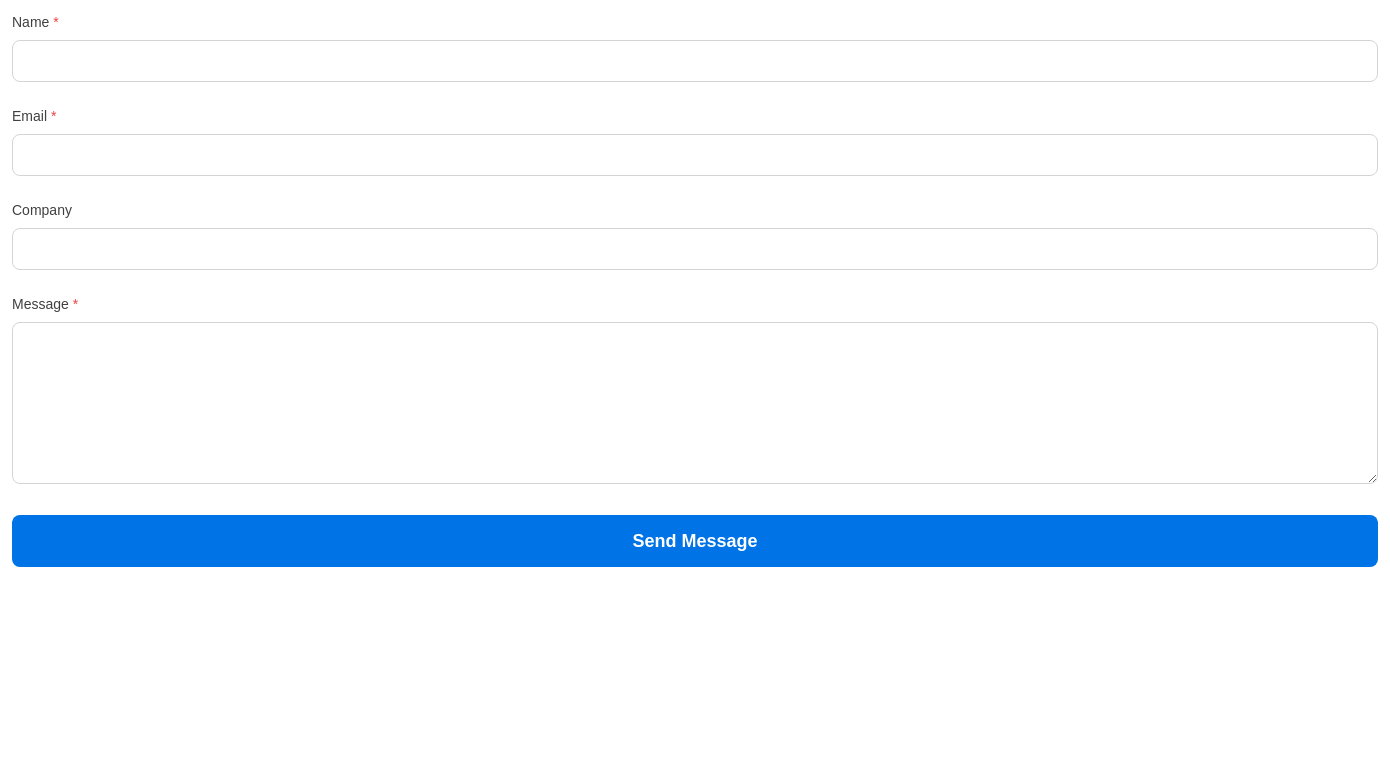
Scenario: ContactForm Component › Loading State › should show loading state during submission
Type "John Doe" into the field labelled "Name *" at (695, 61), box [12,40,1378,82]
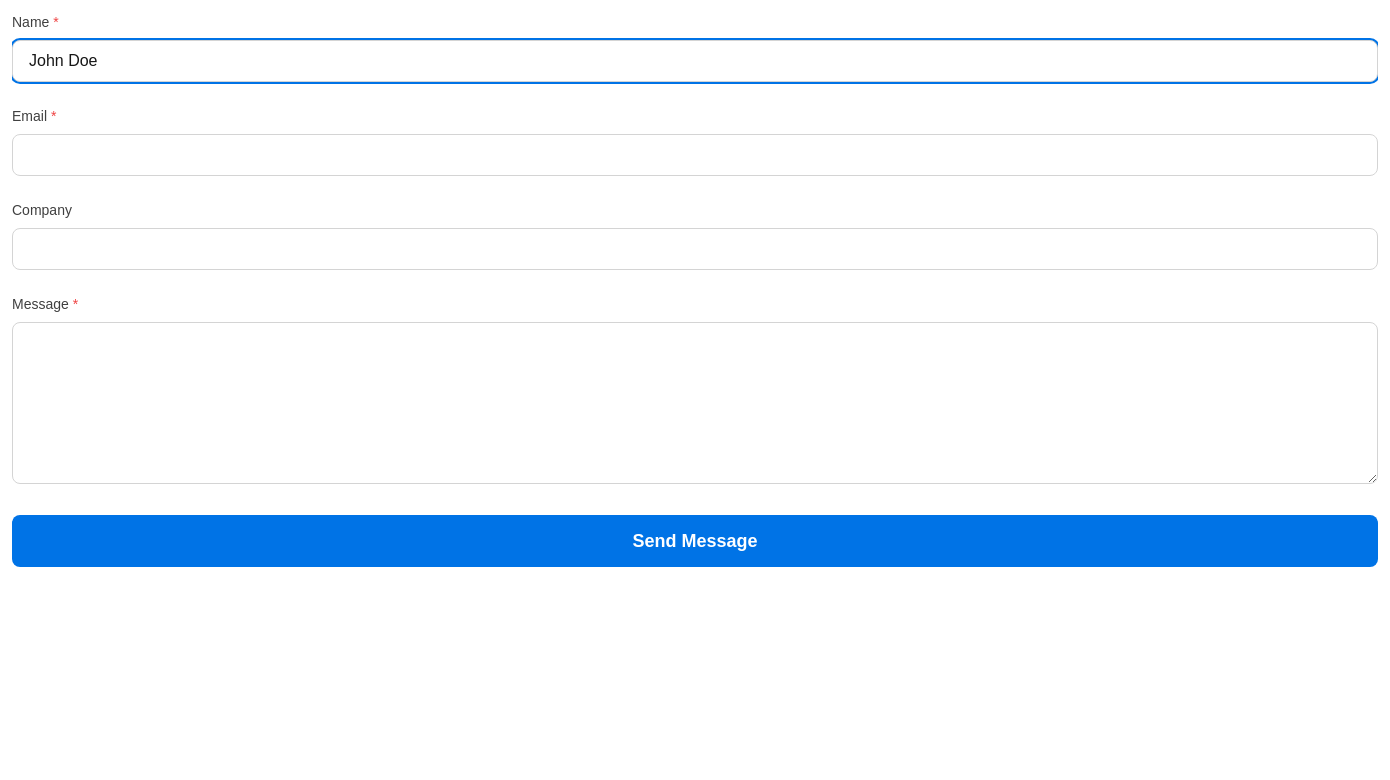
Type "john@example.com" into the field labelled "Email *" at (695, 155), box [12,134,1378,176]
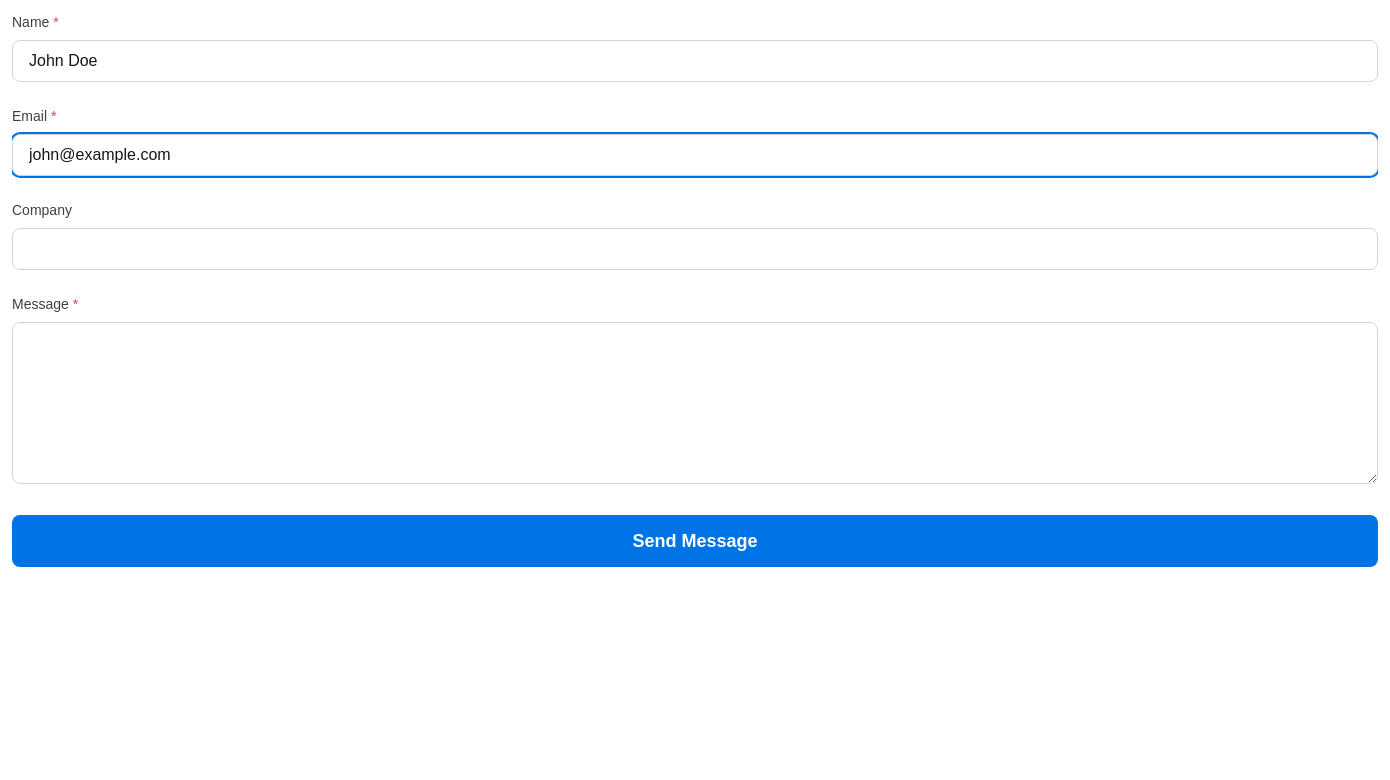
Type "Test message" into the text box labelled "Message *" at (695, 403), box [12,322,1378,484]
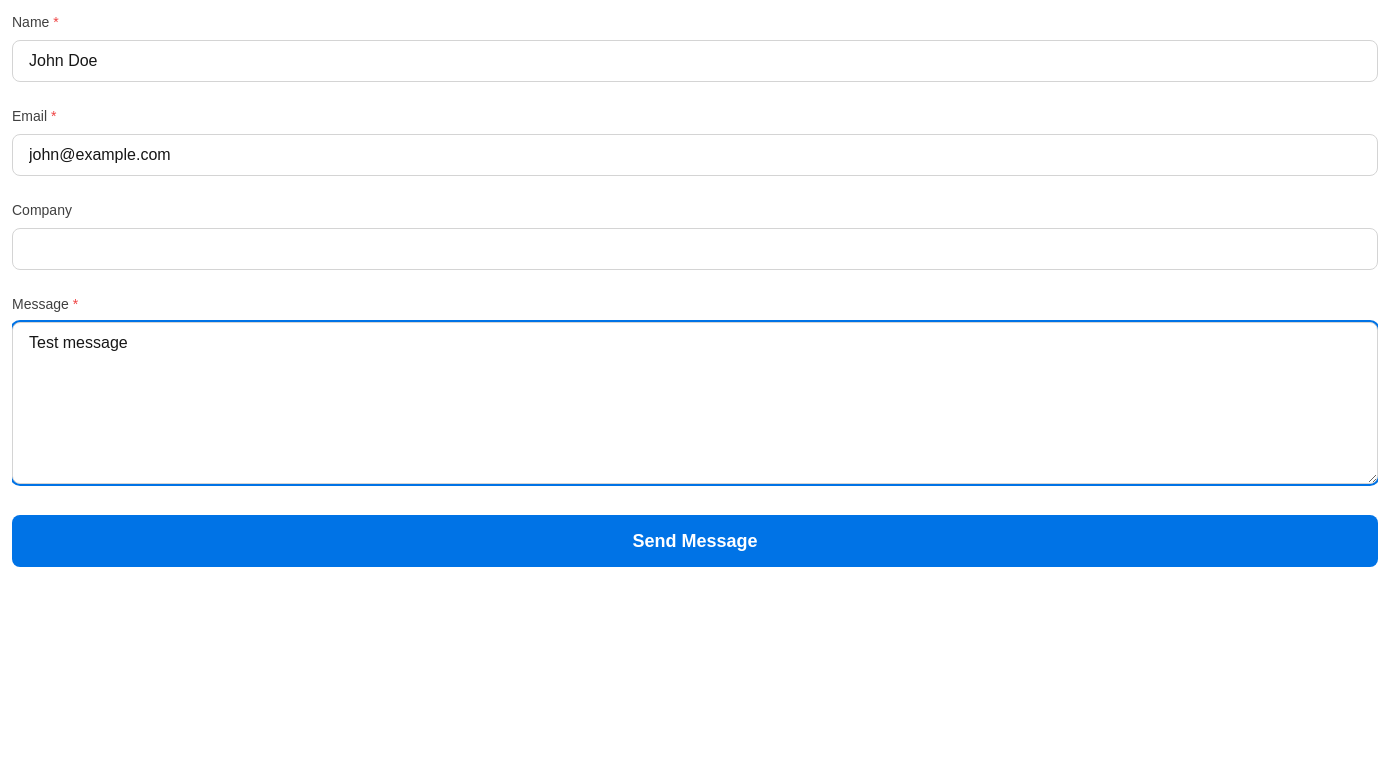
Click the button "Send Message" at (695, 541), box [12,515,1378,567]
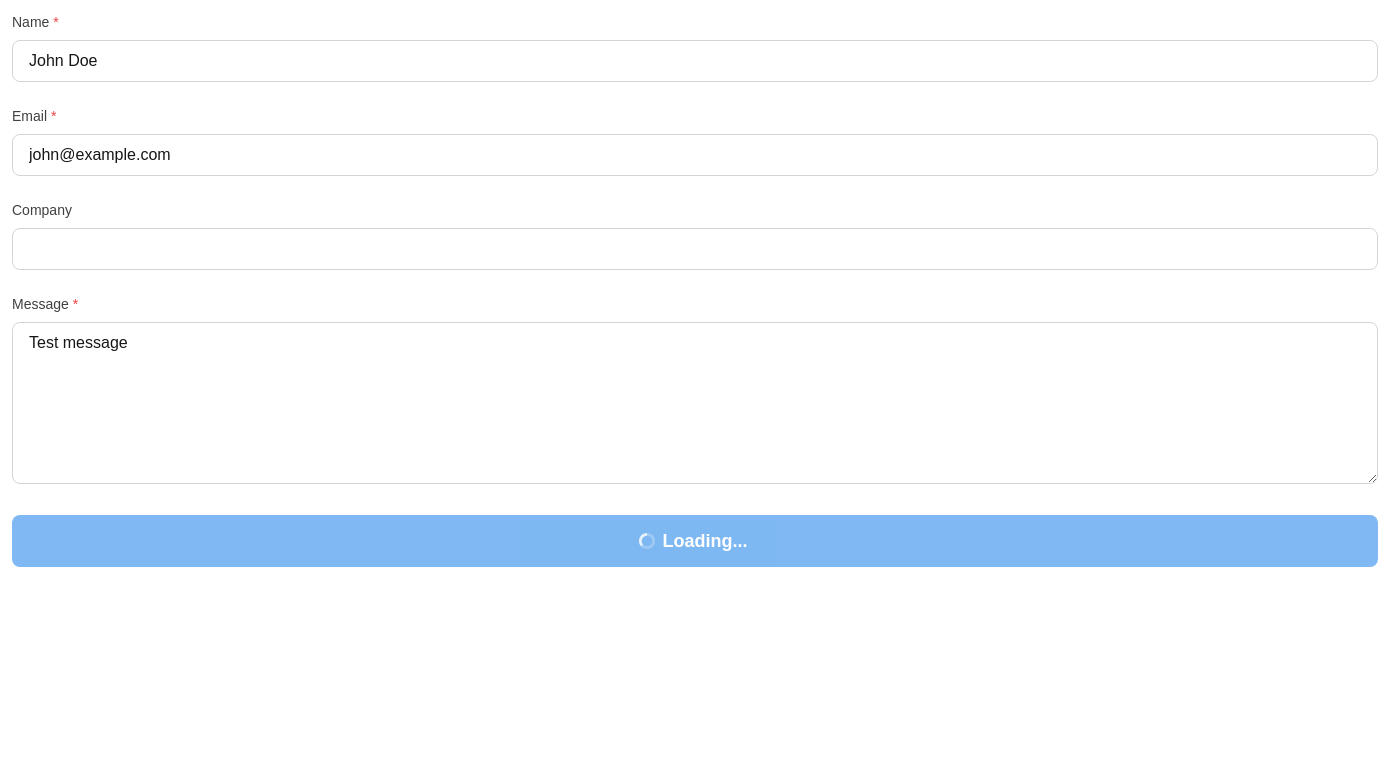
Now the button "Loading..." is disabled, box [12,515,1378,567]
